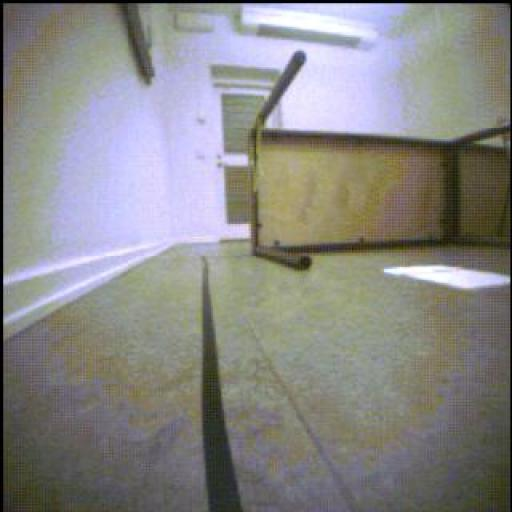Pad: (385, 267, 511, 291)
